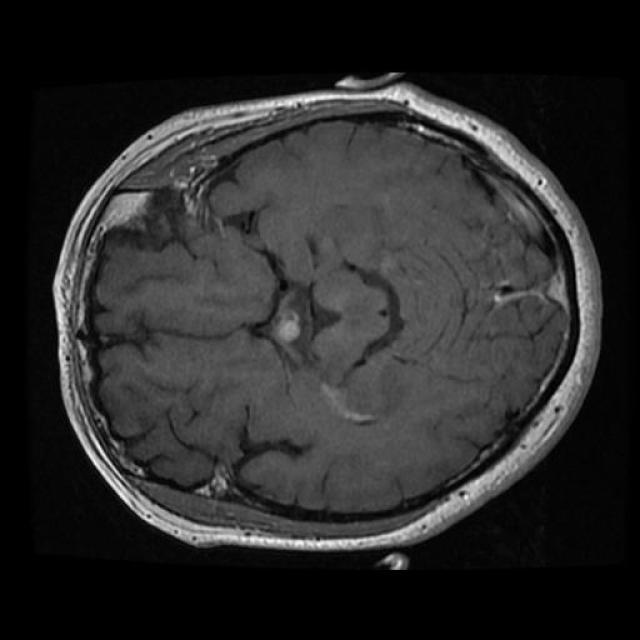Pituitary: (267, 285, 315, 366)
